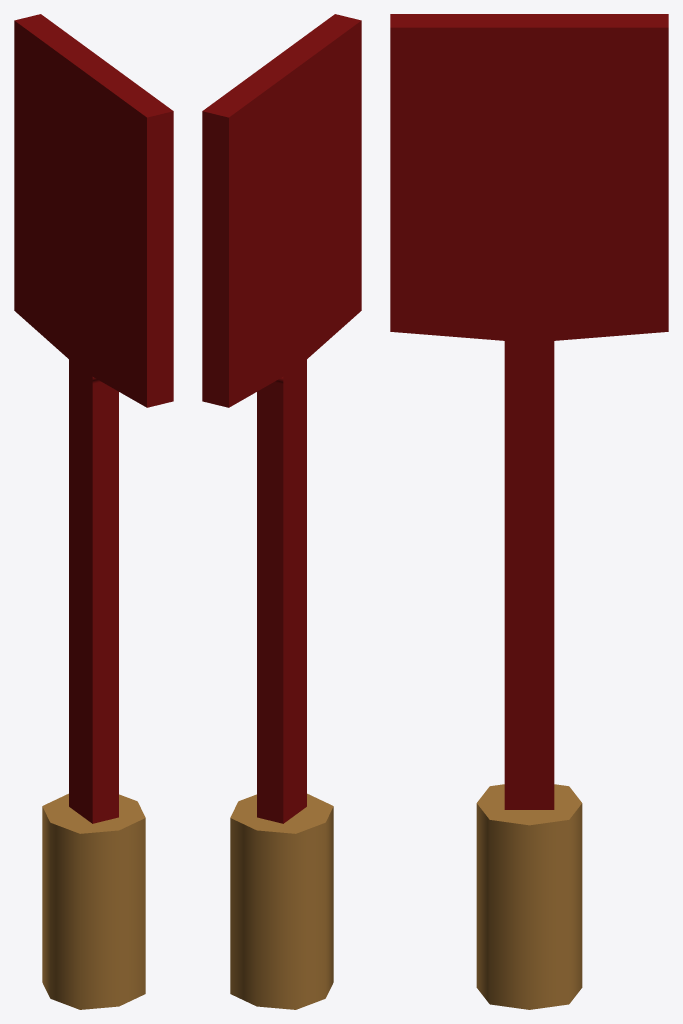
The model's file is swatterModel.fbx.
3 views of the same model, side by side, from view 1: azimuth 30°, elevation 25°; view 2: azimuth 150°, elevation 25°; view 3: azimuth 270°, elevation 25° (orthographic). The views are drawn at different scales.
Parts seen in each view (by area): view 1: flySwatter; view 2: flySwatter; view 3: flySwatter.
Boxes of the visible parts, x1,y1,x2,y2 form: flySwatter: (14, 14, 173, 1009); flySwatter: (202, 14, 361, 1009); flySwatter: (390, 14, 668, 1009).
Bounding box in the file's own units: 0.5397 × 5.45 × 1.42.
